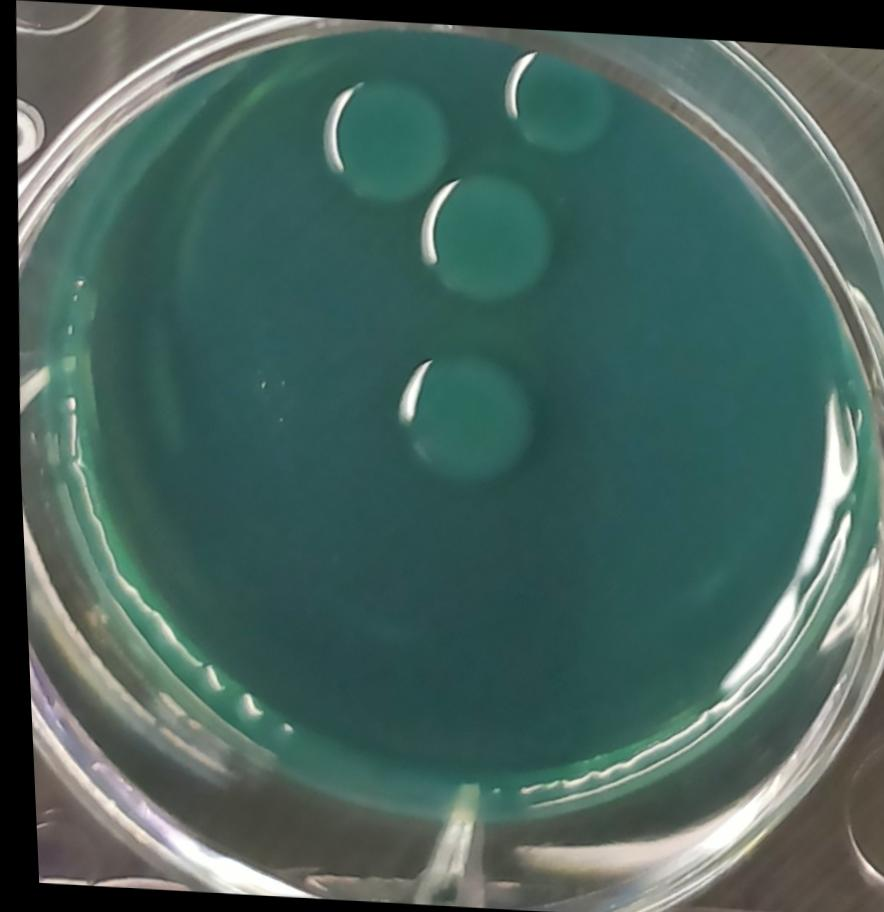vproteolyticus: (375, 327, 561, 498), (403, 156, 568, 313), (307, 59, 464, 208), (487, 35, 642, 171)
